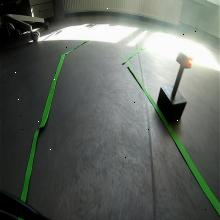red: (176, 51, 195, 70)
